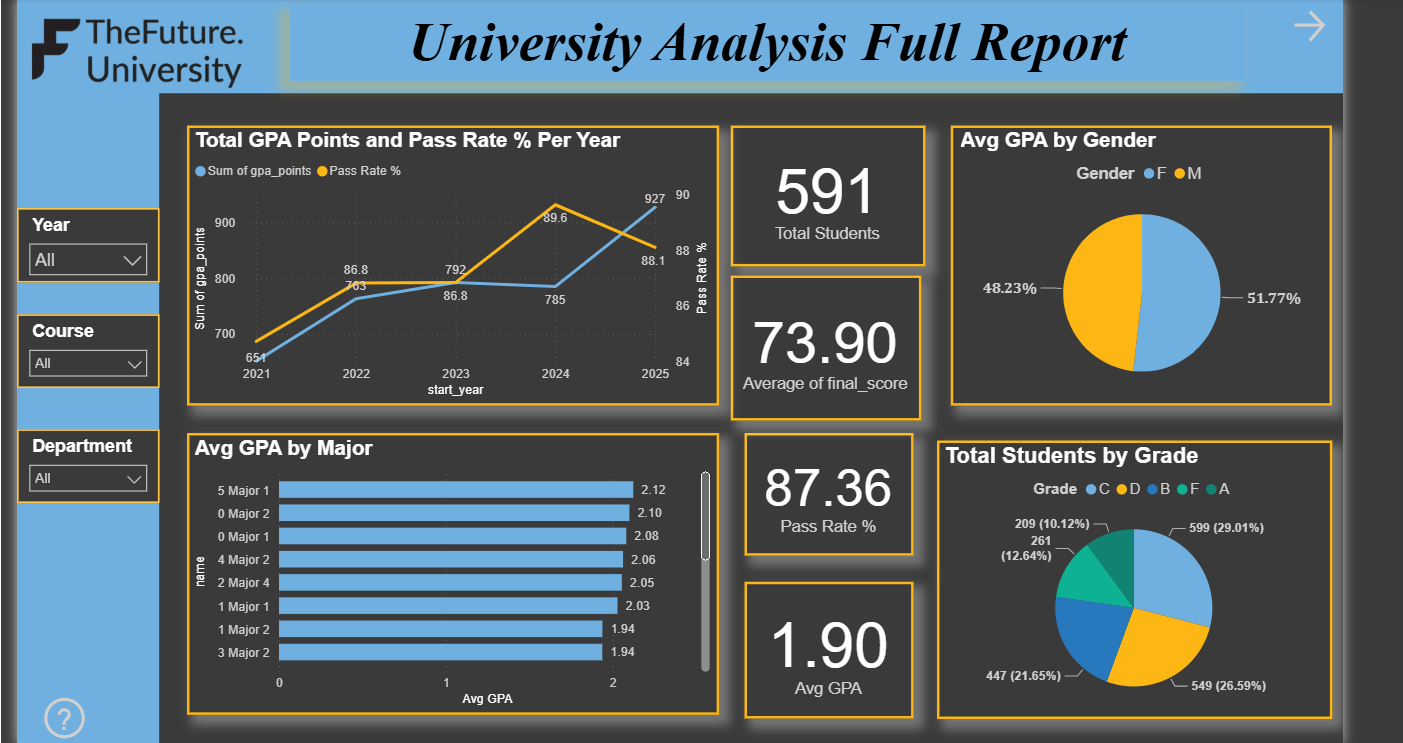

The dashboard page shown, as its layout file describes it:
{"tool":"powerbi","page":{"name":"Student Success","canvas":[1280,720],"ordinal":0},"visuals":[{"type":"card","fields":{"Values":["Count(Fact_Enrollments.student_id)"]},"box":[688.9,123.5,188,135.8],"z":0},{"type":"card","fields":{"Values":["DAX Measures.Pass Rate %"]},"box":[702.6,419.9,163.3,118],"z":1000},{"type":"shape","box":[0,0,1280.3,91.9],"z":1500,"group":"g2"},{"type":"shape","box":[0,2.7,137.2,717.7],"z":2000,"group":"g2"},{"type":"card","fields":{"Values":["Avg(Fact_Enrollments.final_score)"]},"box":[688.9,267.6,183.9,140],"z":2000},{"type":"card","fields":{"Values":["DAX Measures.Avg GPA"]},"box":[702.6,564,163.3,131.7],"z":3000},{"type":"clusteredBarChart","title":"Avg GPA by Major","fields":{"Category":["Dim_majors.name"],"Y":["DAX Measures.Avg GPA"]},"box":[164.7,419.9,513.2,271.7],"z":4000},{"type":"pieChart","title":"Total Students by Grade","fields":{"Category":["Fact_Enrollments.grade"],"Y":["CountNonNull(Fact_Enrollments.student_id)"]},"box":[887.8,426.8,381.5,269],"z":5000},{"type":"lineChart","title":"Total GPA Points and Pass Rate % Per Year","fields":{"Y":["Sum(Fact_Enrollments.gpa_points)"],"Category":["Dim_Students.start_year"],"Y2":["DAX Measures.Pass Rate %"]},"box":[164.7,123.5,513.2,270.3],"z":6000},{"type":"pieChart","title":"Avg GPA by Gender","fields":{"Category":["Dim_Students.gender"],"Y":["DAX Measures.Avg GPA"]},"box":[901.5,123.5,367.8,270.3],"z":7000},{"type":"group","id":"g1","title":"Group 1","box":[0,0,1280.3,720.4],"z":8000},{"type":"slicer","fields":{"Values":["Dim_Students.start_year"]},"box":[0,202.7,137.5,72.4],"z":9000},{"type":"actionButton","box":[1226.8,6.9,53.5,39.8],"z":10000},{"type":"image","box":[0,6.9,242.9,91.9],"z":11000},{"type":"actionButton","box":[20.6,669.6,57.6,50.8],"z":12000},{"type":"slicer","fields":{"Values":["Dim_Departments.name"]},"box":[0,415.8,137.2,71.4],"z":13000},{"type":"slicer","fields":{"Values":["Dim_Departments.name"]},"box":[0,305.2,137.5,71.2],"z":14000},{"type":"textbox","box":[263.5,6.9,922.1,72.7],"z":15000},{"type":"group","id":"g2","title":"Group 2","box":[0,0,1280.3,720.4],"z":16001,"group":"g1"}]}

Visuals, with their boxes on the page's 1280x720 design canvas (x1, y1, x2, y2). These are canvas units, not pixel positions in the 1403x743 screenshot, which may show the page scaled, cropped or inside an application window:
card - Count(Fact_Enrollments.student_id): [689,124,877,259]
card - DAX Measures.Pass Rate %: [703,420,866,538]
shape: [0,0,1280,92]
shape: [0,3,137,720]
card - Avg(Fact_Enrollments.final_score): [689,268,873,408]
card - DAX Measures.Avg GPA: [703,564,866,696]
"Avg GPA by Major" clusteredBarChart: [165,420,678,692]
"Total Students by Grade" pieChart: [888,427,1269,696]
"Total GPA Points and Pass Rate % Per Year" lineChart: [165,124,678,394]
"Avg GPA by Gender" pieChart: [902,124,1269,394]
"Group 1" group: [0,0,1280,720]
slicer - Dim_Students.start_year: [0,203,138,275]
actionButton: [1227,7,1280,47]
image: [0,7,243,99]
actionButton: [21,670,78,720]
slicer - Dim_Departments.name: [0,416,137,487]
slicer - Dim_Departments.name: [0,305,138,376]
textbox: [264,7,1186,80]
"Group 2" group: [0,0,1280,720]
